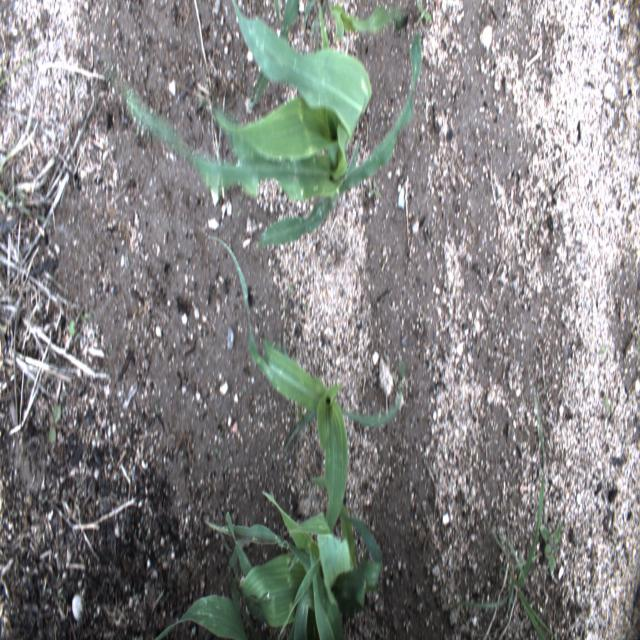crop: (120, 0, 424, 247), (207, 234, 404, 545), (204, 475, 382, 639), (155, 532, 247, 640), (309, 0, 409, 56), (249, 0, 299, 108), (236, 608, 257, 640), (302, 0, 316, 43), (274, 0, 279, 24)
weed: (455, 382, 561, 640), (0, 191, 59, 229), (1, 44, 42, 87), (538, 518, 562, 574), (3, 176, 31, 222), (504, 536, 526, 587), (0, 127, 25, 171), (392, 359, 406, 415), (48, 403, 61, 444), (414, 0, 432, 27), (369, 181, 383, 199), (68, 319, 76, 337)
